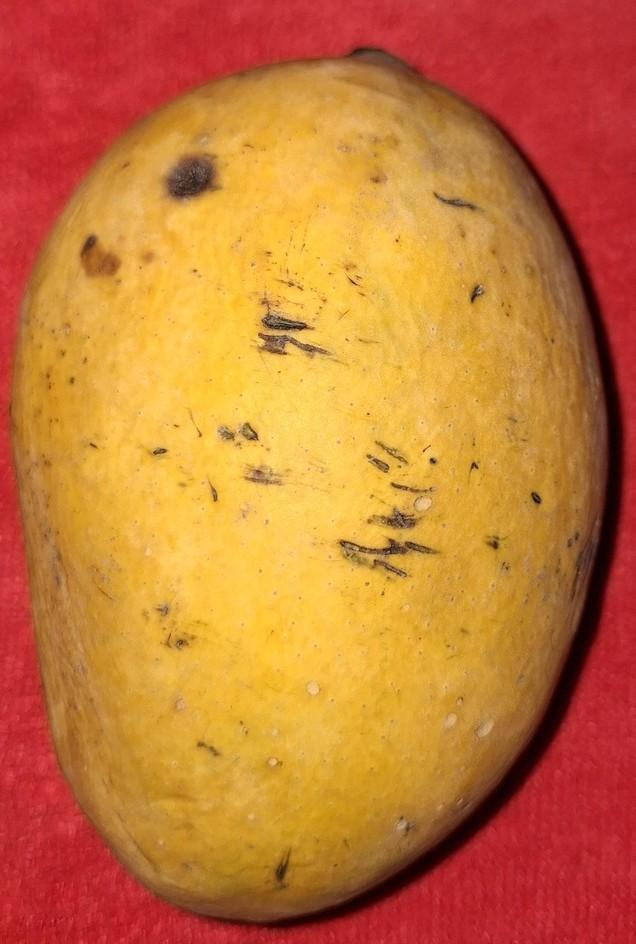mango: (8, 46, 611, 924)
